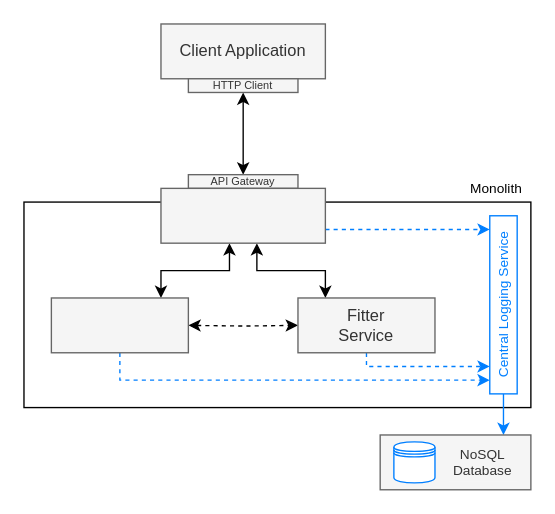
This 555x514 diagram has some shape labels left out. Here are the shapes that lost their labels. From the top down, the centre of each, then its label:
At point (242, 215): "Gateway Service".
At point (119, 325): "Plotter Service".
